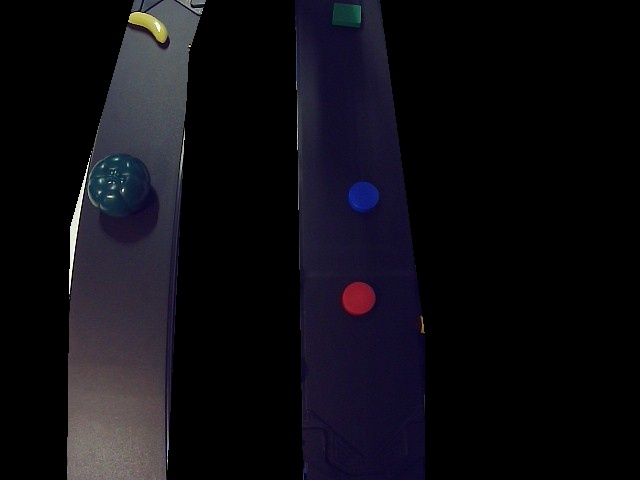Blue_Circle: (346, 180, 383, 213)
Green_Square: (330, 0, 363, 31)
Red_Circle: (340, 279, 379, 319)
Unknown: (89, 154, 157, 217), (121, 9, 173, 47)
